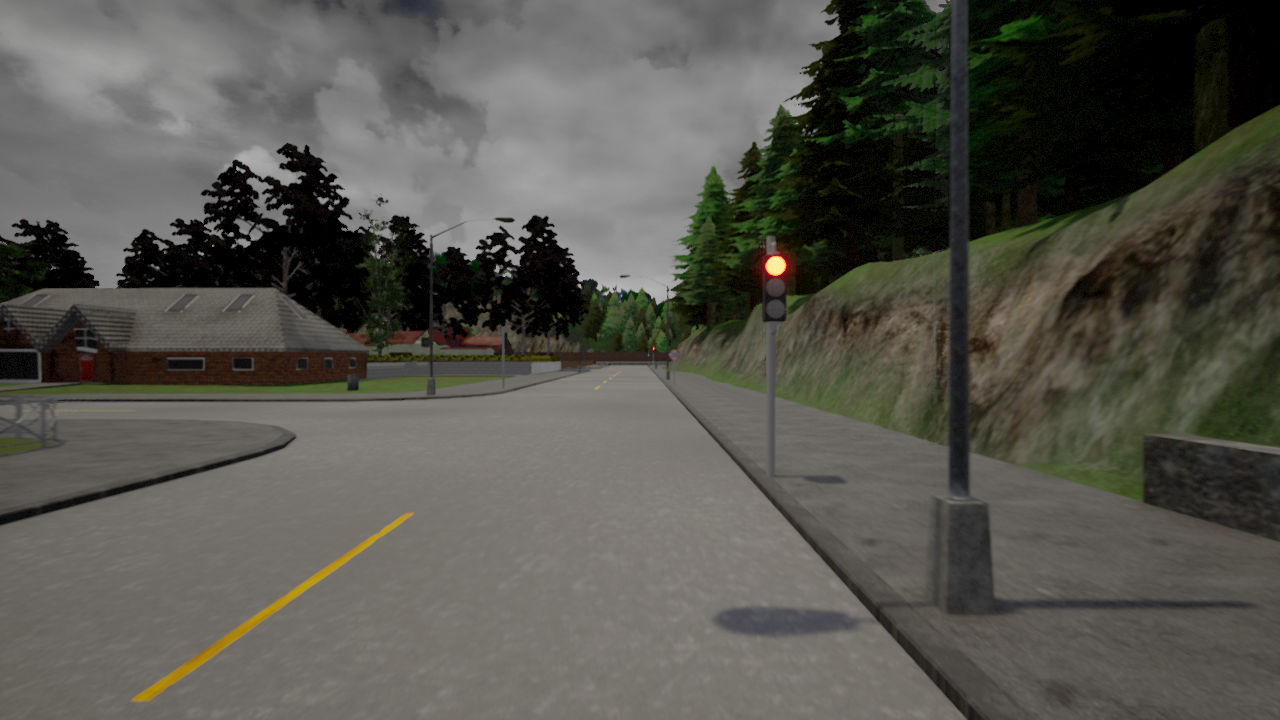red: (760, 252, 790, 330)
